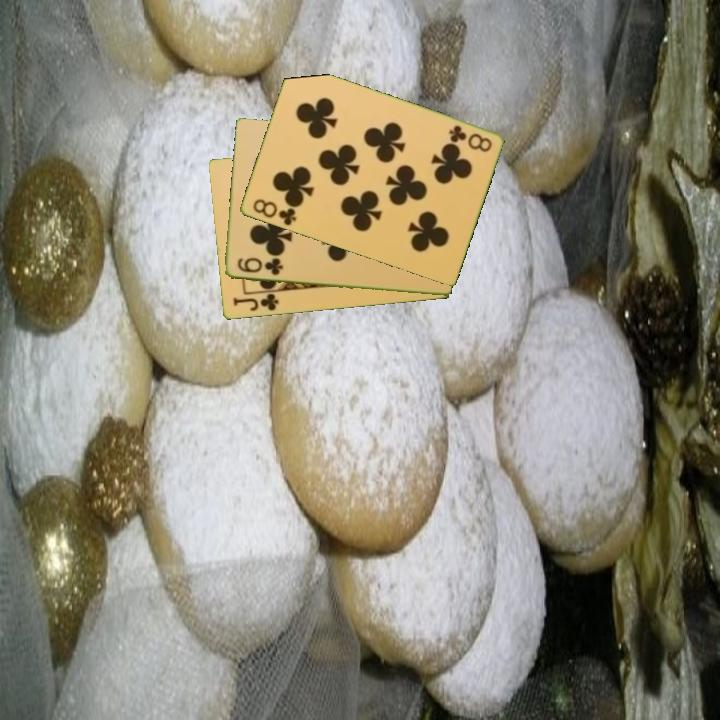6c: (234, 254, 285, 279)
8c: (249, 195, 299, 229), (445, 122, 494, 155)
Jc: (229, 290, 281, 314)
